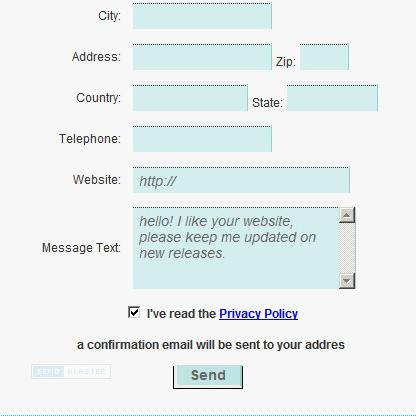button: (169, 363, 251, 391)
checkbox: (123, 305, 142, 321)
checkbox_with_label: (119, 304, 303, 324)
field: (128, 205, 359, 292), (129, 166, 352, 194), (128, 2, 273, 31), (128, 125, 276, 153), (128, 43, 274, 71), (128, 83, 251, 113), (282, 83, 381, 114), (294, 43, 349, 71)
field_with_label: (42, 202, 362, 294), (72, 164, 354, 196), (60, 123, 280, 155), (71, 41, 276, 74), (98, 0, 275, 32), (76, 83, 255, 114), (125, 42, 297, 74), (250, 81, 383, 117), (278, 42, 351, 73)
